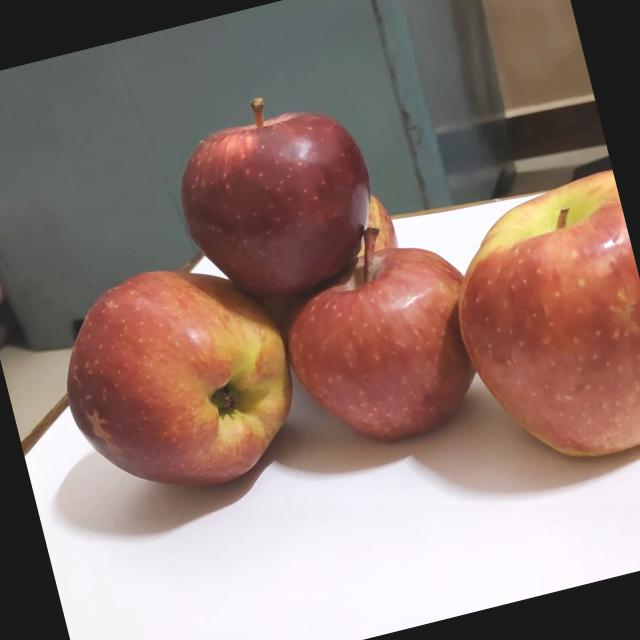apple: (42, 240, 326, 518), (435, 156, 640, 480), (151, 66, 401, 324), (264, 204, 502, 462), (210, 188, 399, 300)
